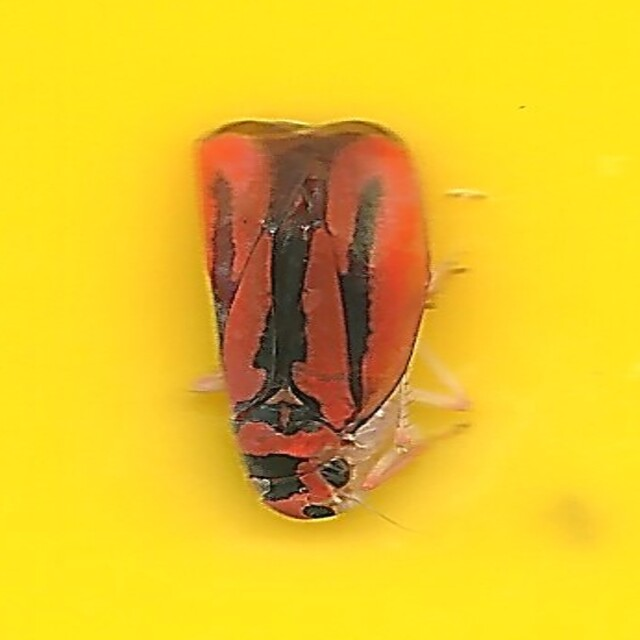Hemiptera: (185, 116, 455, 524)
